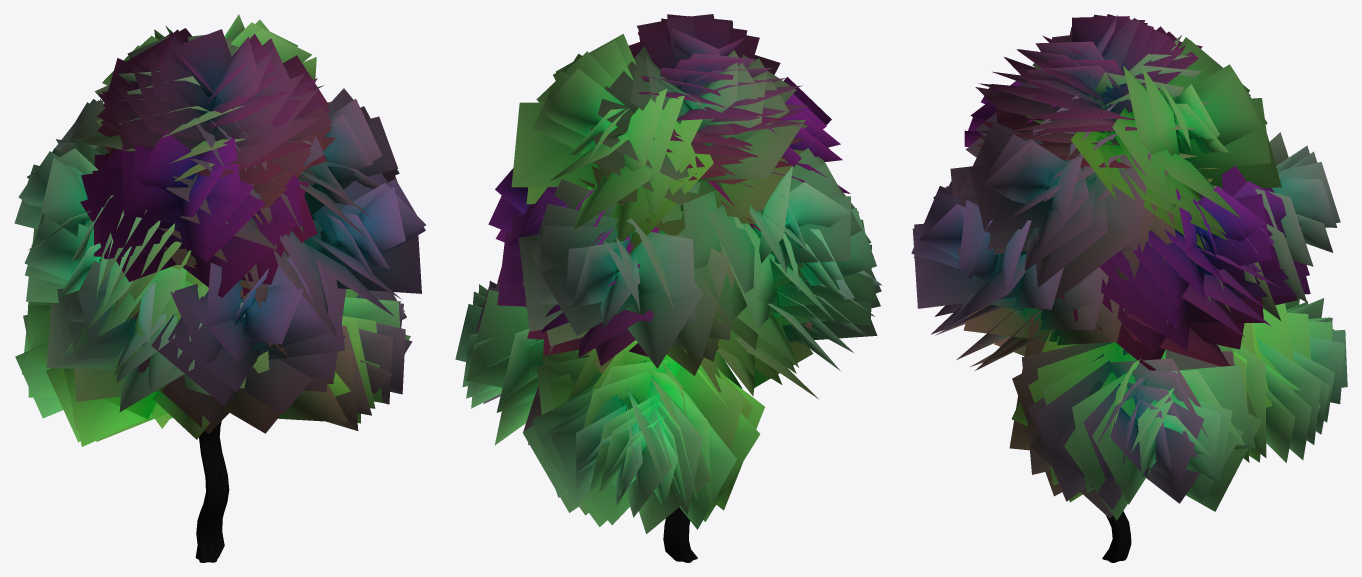
File: tree_swann_03.fbx
3 renders of one model, left to right at view 1: azimuth 30°, elevation 25°; view 2: azimuth 150°, elevation 25°; view 3: azimuth 270°, elevation 25°, orthographic.
Parts seen in each view (by area): view 1: Tree_1, Tree_0; view 2: Tree_1, Tree_0; view 3: Tree_1, Tree_0.
Boxes of the visible parts, x1,y1,x2,y2 form: Tree_1: [14, 14, 425, 446]; Tree_0: [98, 98, 338, 562]; Tree_1: [455, 14, 881, 533]; Tree_0: [615, 224, 787, 562]; Tree_1: [911, 14, 1347, 520]; Tree_0: [1020, 96, 1203, 562].
Size of the model in its own units: 1143 by 1542 by 1140.
